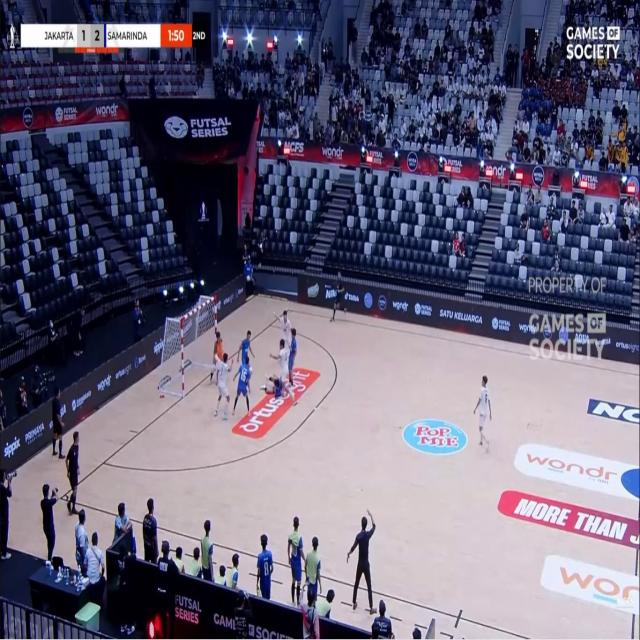keeper: (215, 332, 223, 360)
